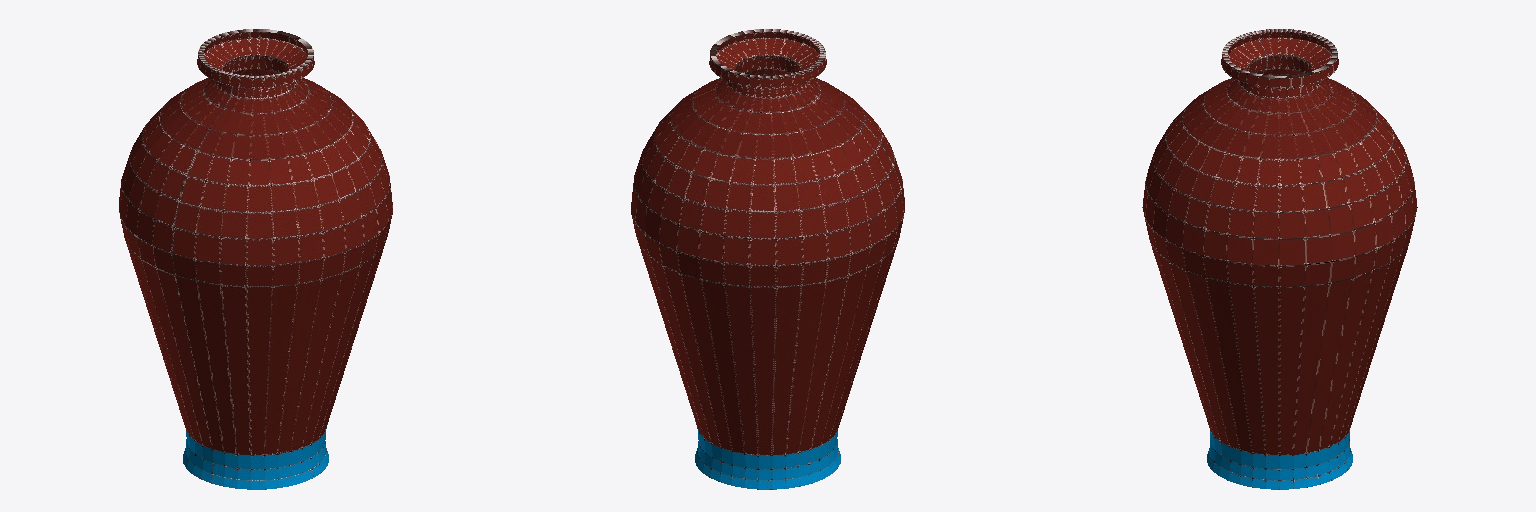
3 views of the same model, side by side, from view 1: azimuth 30°, elevation 25°; view 2: azimuth 150°, elevation 25°; view 3: azimuth 270°, elevation 25° (orthographic).
Parts seen in each view (by area): view 1: Sphere; view 2: Sphere; view 3: Sphere.
Boxes of the visible parts, <box> form: Sphere: <box>119,29,392,489</box>; Sphere: <box>631,29,904,489</box>; Sphere: <box>1142,29,1417,489</box>.
Bounding box in the file's own units: 1.4 × 2.27 × 1.4.
1 materials, 1 textured.